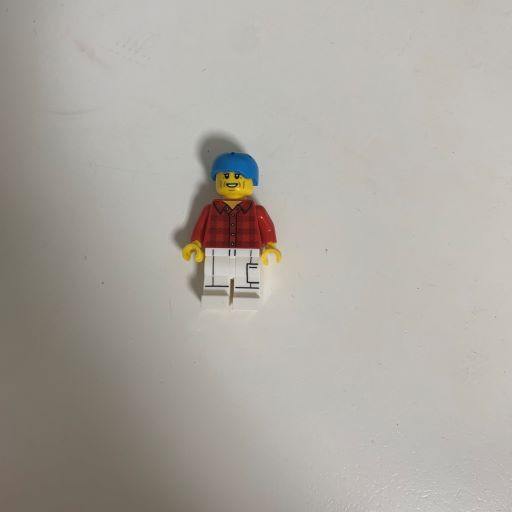human: (171, 145, 288, 318)
